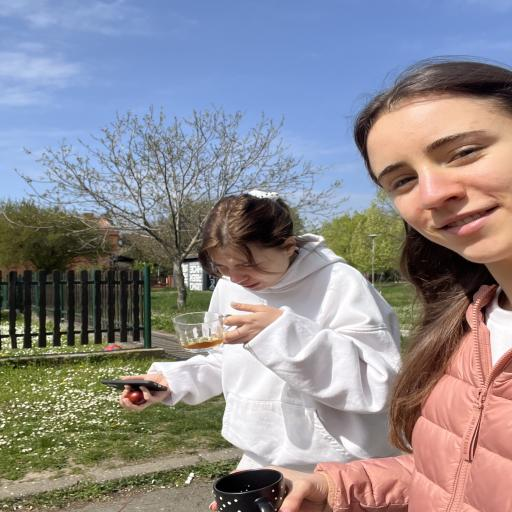masa: (365, 98, 511, 262)
